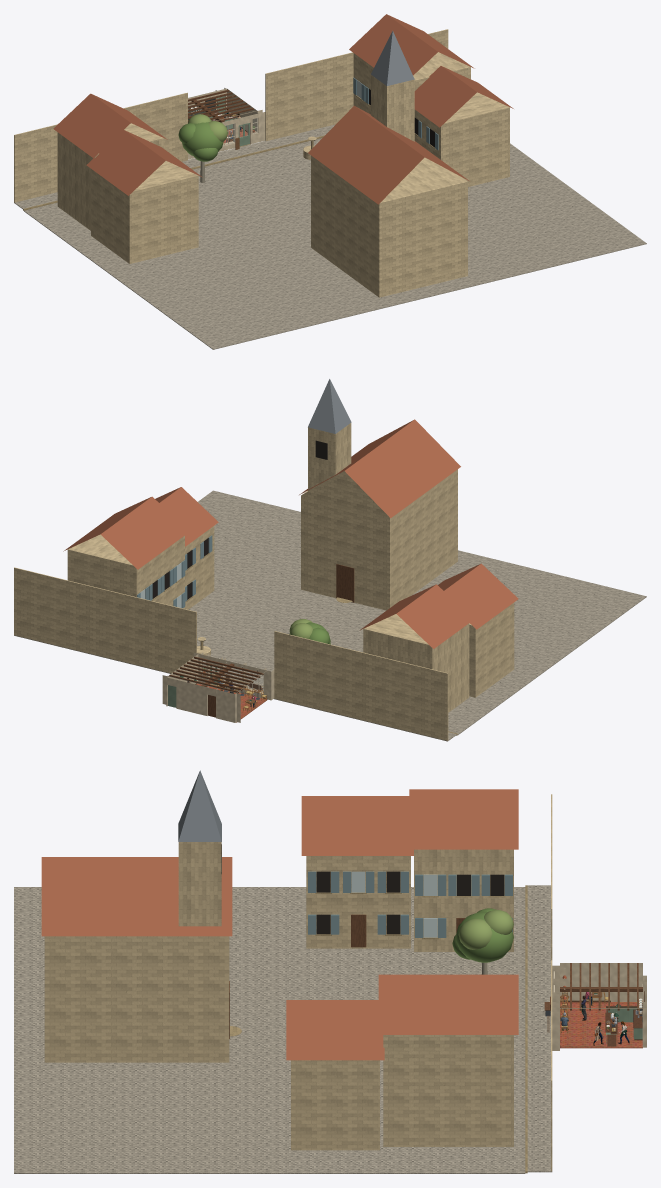
File: cafe_B.glb
3 renders of one model, top to bottom at view 1: azimuth 30°, elevation 25°; view 2: azimuth 150°, elevation 25°; view 3: azimuth 270°, elevation 25°, orthographic. The views are drawn at different scales.
Visible parts, largest first — view 1: cafe_static; view 2: cafe_static; view 3: cafe_static.
Boxes of the visible parts, left/top/right/bottom form: cafe_static: left=14, top=14, right=646, bottom=349; cafe_static: left=14, top=379, right=646, bottom=741; cafe_static: left=14, top=770, right=646, bottom=1173.
Bounding box in the file's own units: 44 × 20.2 × 41.15.
Materials: 28 (26 with a texture image).
